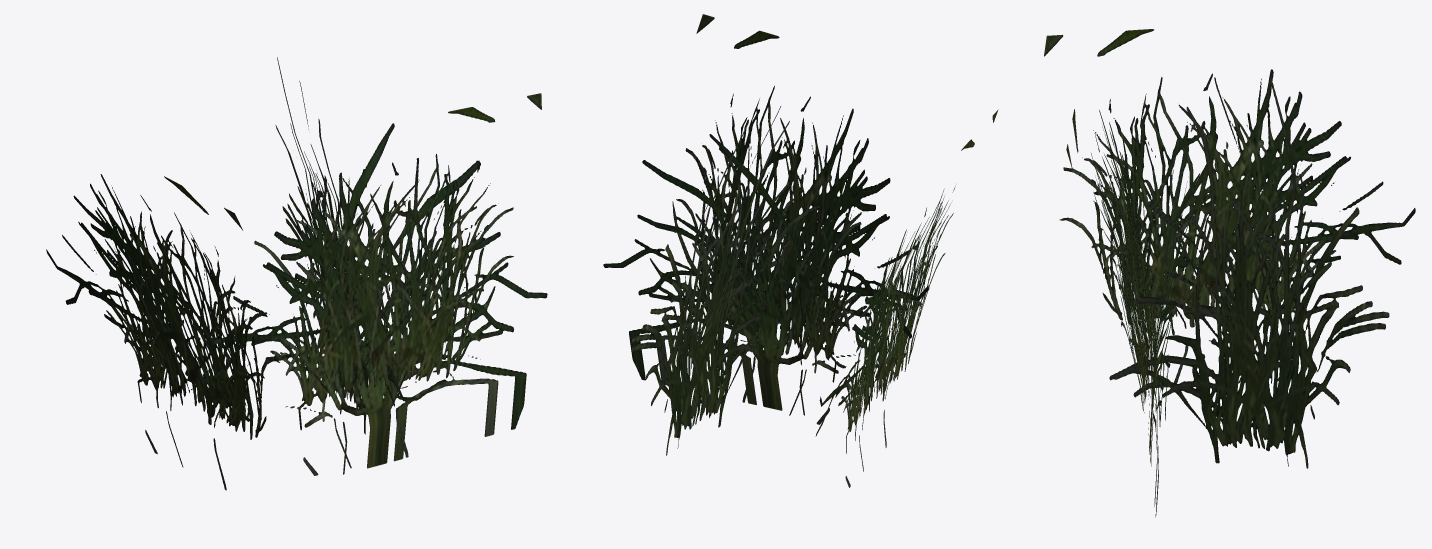
File: forest_grass_003_c_LOD2.gltf
3 views of the same model, side by side, from view 1: azimuth 30°, elevation 25°; view 2: azimuth 150°, elevation 25°; view 3: azimuth 270°, elevation 25° (orthographic). The views are drawn at different scales.
Visible parts, largest first — view 1: meadow_grass_002_c_LOD2; view 2: meadow_grass_002_c_LOD2; view 3: meadow_grass_002_c_LOD2.
Part boxes in pixels (x1,y1,x2,y2): meadow_grass_002_c_LOD2: (46, 57, 547, 490); meadow_grass_002_c_LOD2: (603, 14, 998, 487); meadow_grass_002_c_LOD2: (1044, 29, 1415, 517).
Bounding box in the file's own units: 0.8512 × 0.7079 × 0.6981.
